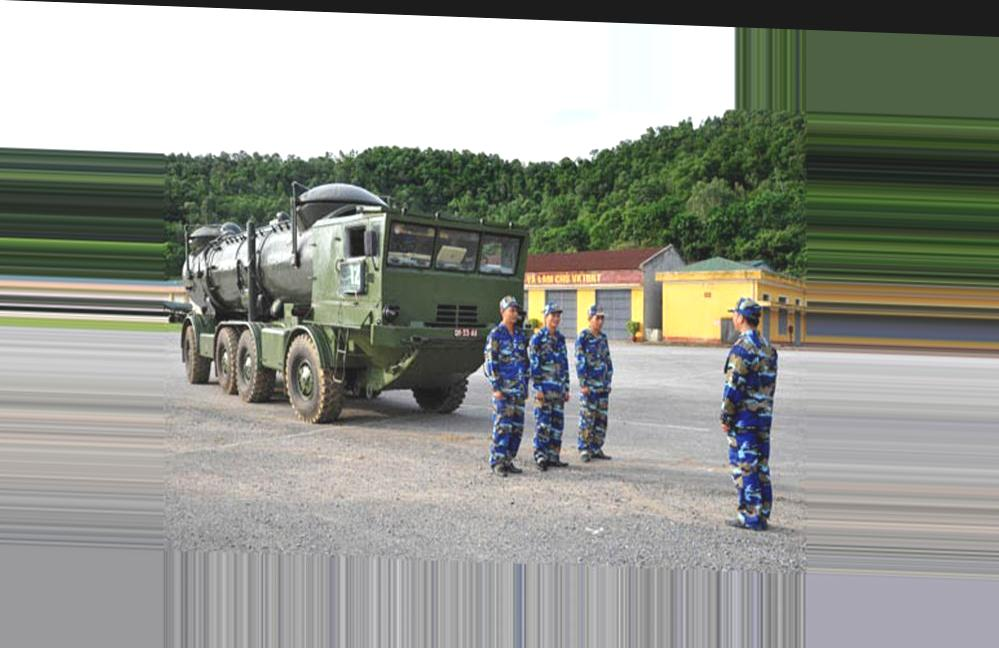License_Plate: (449, 325, 483, 341)
